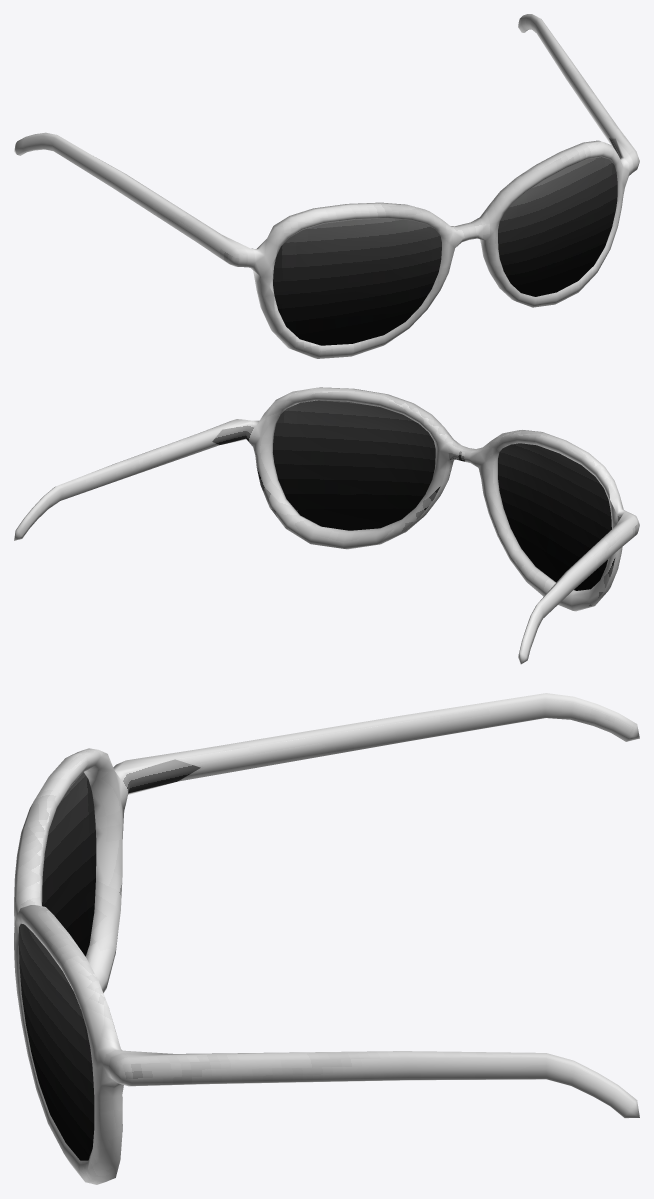
File: B_Q3_F_Acc_5006.DAE
The picture shows the model from 3 angles, top to bottom: view 1: azimuth 30°, elevation 25°; view 2: azimuth 150°, elevation 25°; view 3: azimuth 270°, elevation 25°; orthographic projection. The views are drawn at different scales.
Visible parts, largest first — view 1: B_Q3_F_Acc_5006; view 2: B_Q3_F_Acc_5006; view 3: B_Q3_F_Acc_5006.
Boxes of the visible parts, box(x1,y1,x2,y2) form: B_Q3_F_Acc_5006: box(14, 14, 639, 358); B_Q3_F_Acc_5006: box(14, 387, 639, 664); B_Q3_F_Acc_5006: box(14, 693, 639, 1184).
Bounding box in the file's own units: 21.15 × 14.63 × 6.18.
